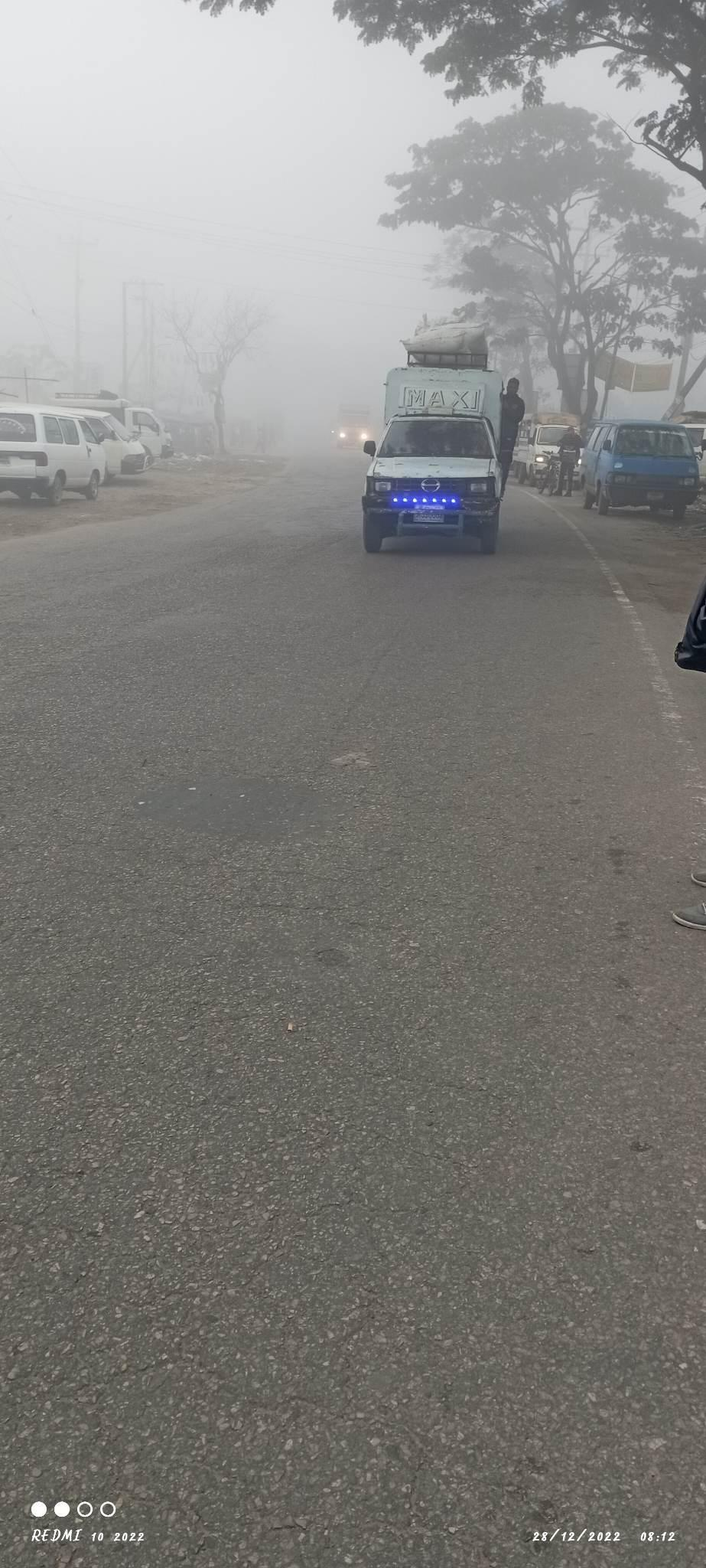Car: (348, 287, 525, 580), (579, 393, 706, 541), (3, 373, 113, 523)
